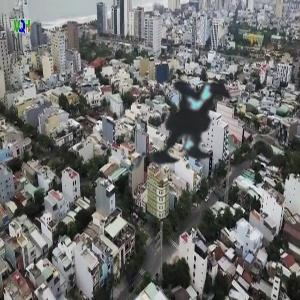drone: (89, 22, 289, 222)
